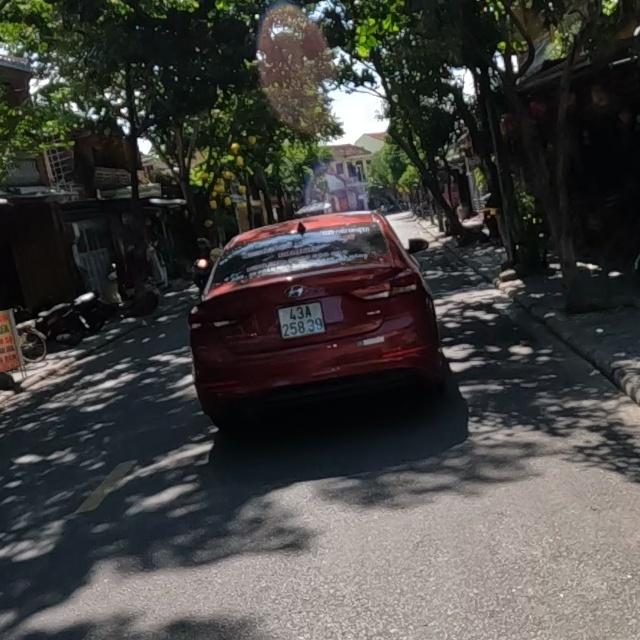license-plate: (276, 300, 326, 340)
